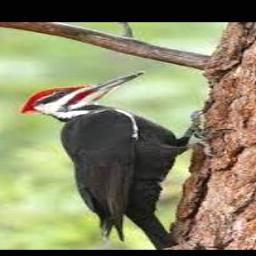Woodpecker: (20, 71, 227, 249)
